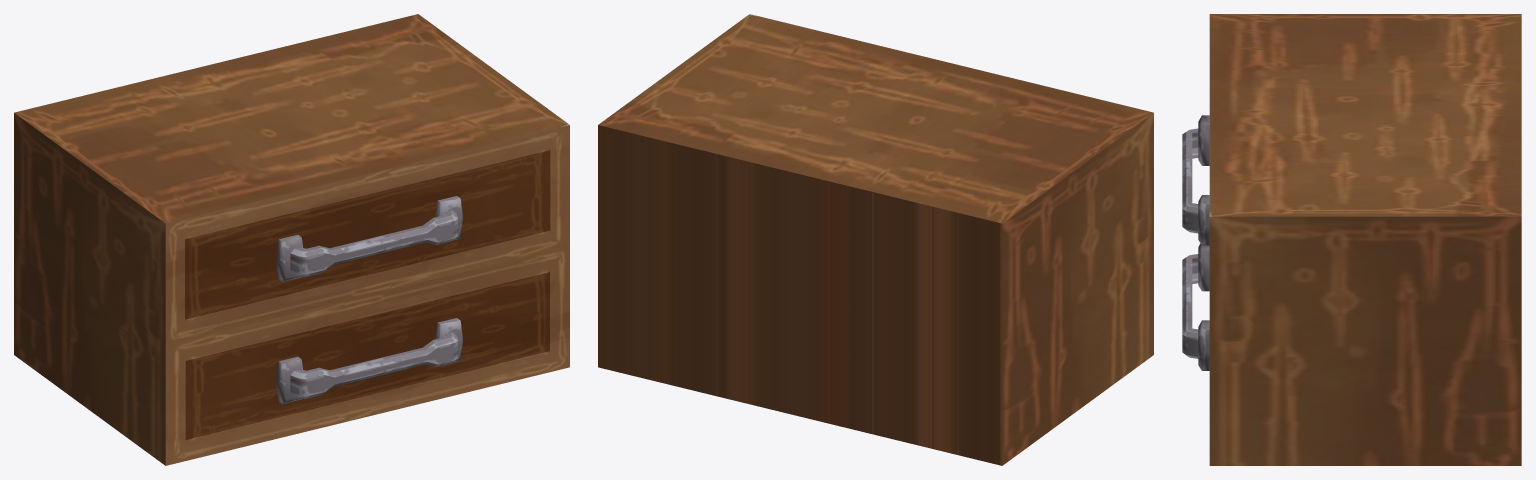
File: Workbench_Drawers.glb
3 views of the same model, side by side, from view 1: azimuth 30°, elevation 25°; view 2: azimuth 150°, elevation 25°; view 3: azimuth 270°, elevation 25° (orthographic). The views are drawn at different scales.
Visible parts, largest first — view 1: Workbench_Drawers; view 2: Workbench_Drawers; view 3: Workbench_Drawers.
Part boxes in pixels (x1=…): Workbench_Drawers: x1=14, y1=14, x2=569, y2=465; Workbench_Drawers: x1=598, y1=14, x2=1153, y2=465; Workbench_Drawers: x1=1182, y1=14, x2=1521, y2=465.
Bounding box in the file's own units: 0.4231 × 0.2424 × 0.299.
Materials: 2 (2 with a texture image).
